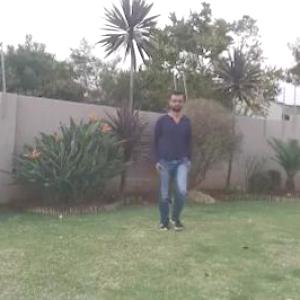follow: (152, 94, 191, 226)
